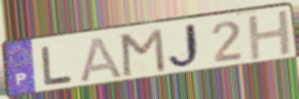2: (210, 19, 243, 64)
A: (79, 35, 126, 84)
H: (246, 8, 295, 63)
J: (166, 21, 206, 72)
L: (39, 44, 75, 88)
M: (120, 26, 168, 79)
